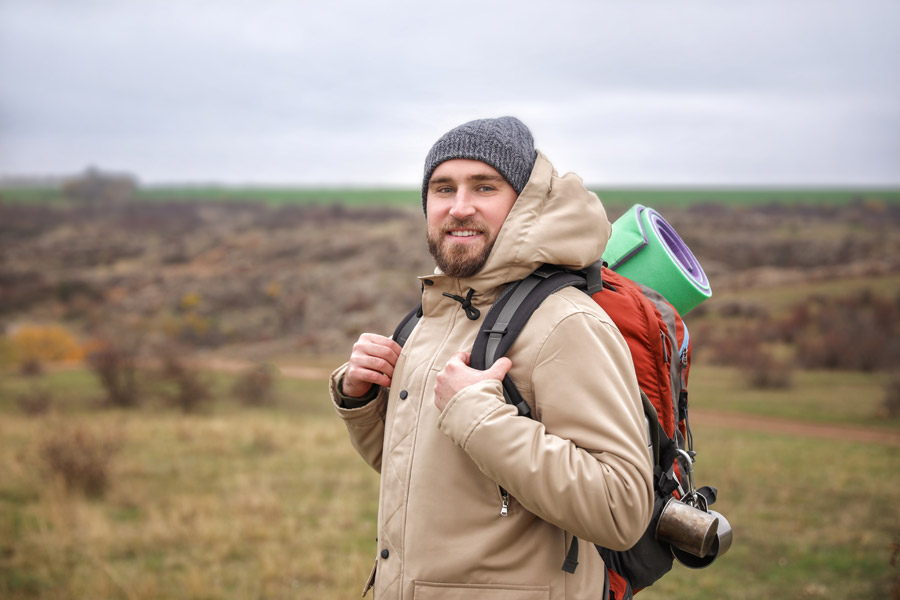male: (331, 115, 665, 600)
